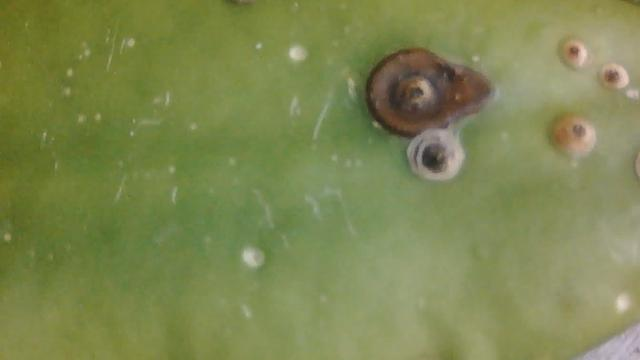stemcanker: (404, 129, 470, 184), (548, 109, 601, 159), (557, 33, 593, 73), (599, 60, 632, 92)
